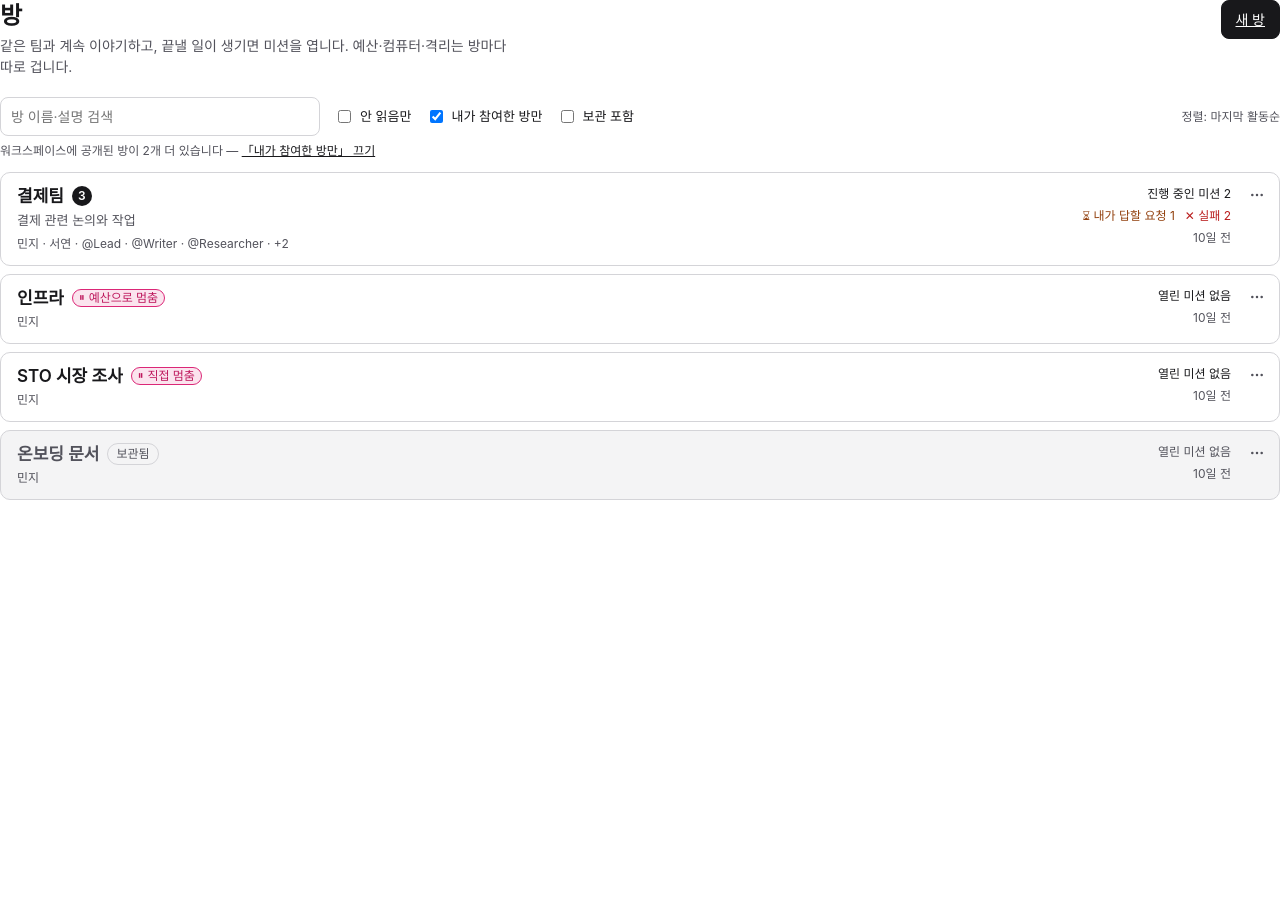
Test: 「…」 메뉴 › 보관 409 tasks_active — 다이얼로그 안에서 서버 문장 그대로
Check: the number of elements with test id "room-row" is 4, box x1=0 y1=172 x2=1279 y2=266; x1=0 y1=274 x2=1279 y2=344; x1=0 y1=352 x2=1279 y2=422; x1=0 y1=430 x2=1279 y2=500
Click the button with test id "room-menu-button" in the row of "직접 멈춤".
click(1257, 375)  # box x1=1243 y1=361 x2=1271 y2=389
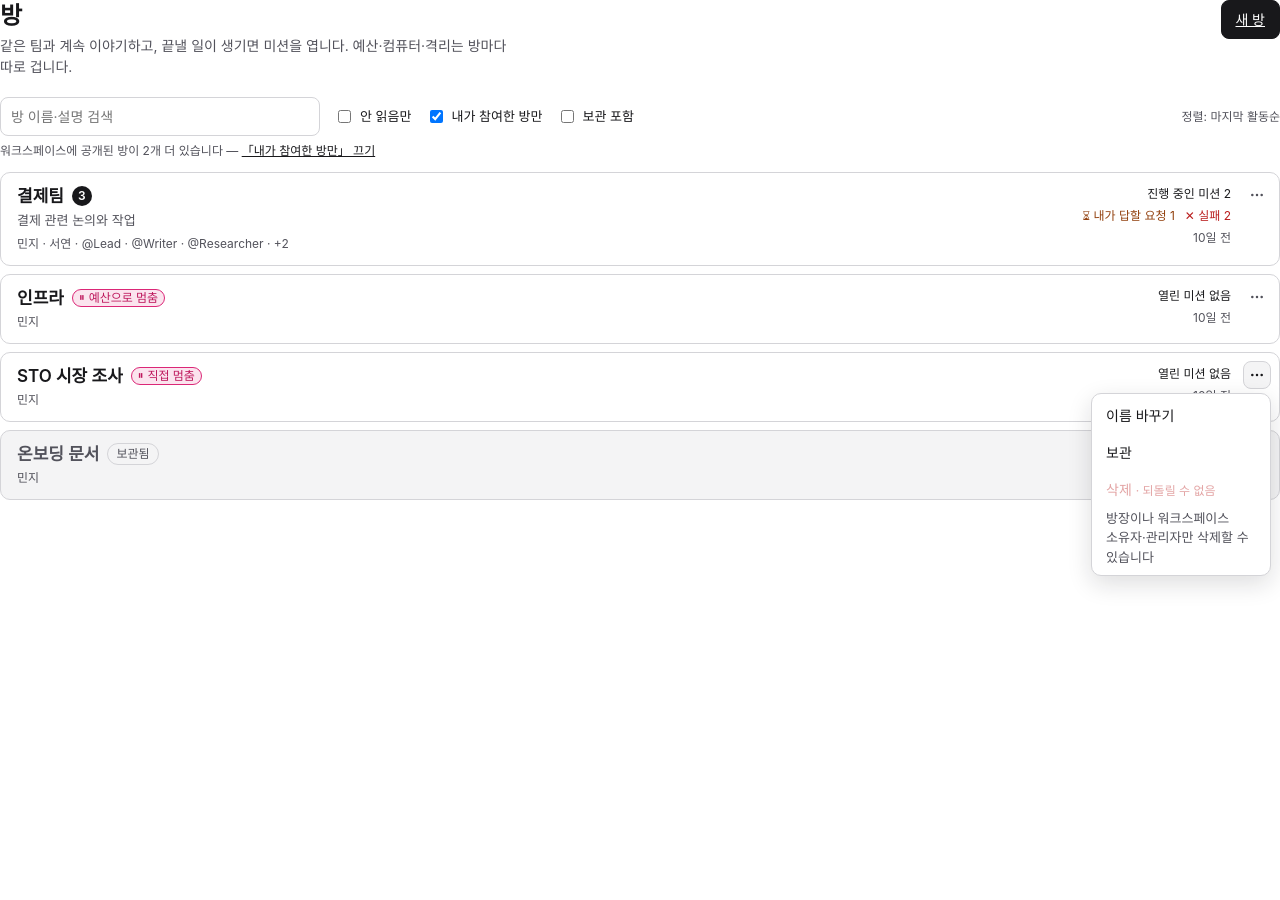
Click the menu item with test id "room-menu-archive".
click(1181, 452)  # box x1=1096 y1=435 x2=1266 y2=470
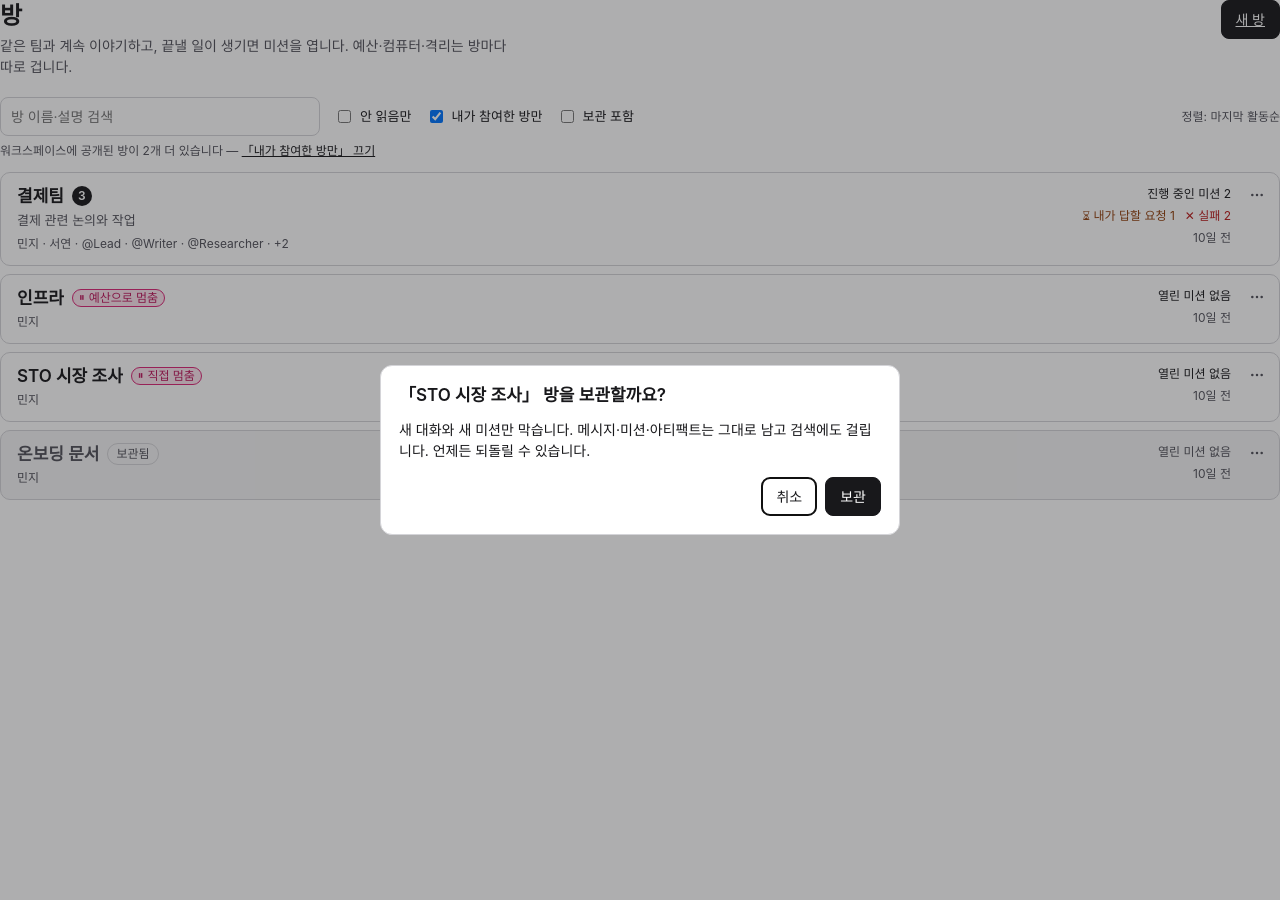
Click the button with test id "archive-room-dialog-confirm".
click(853, 496)  # box x1=825 y1=477 x2=881 y2=516
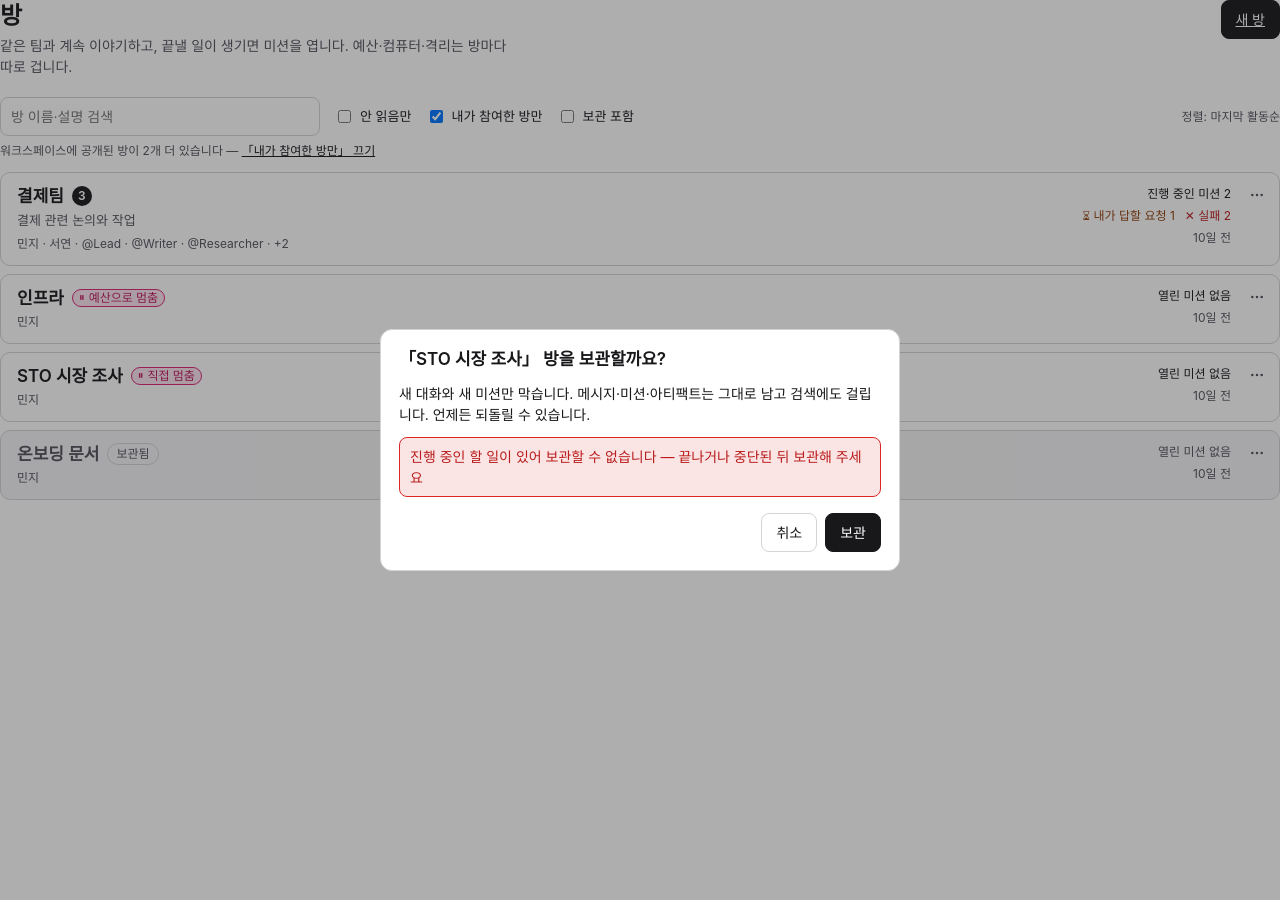
Check: the message with test id "archive-room-dialog-error" shows "진행 중인 할 일이 있어 보관할 수 없습니다", box x1=410 y1=448 x2=862 y2=486
